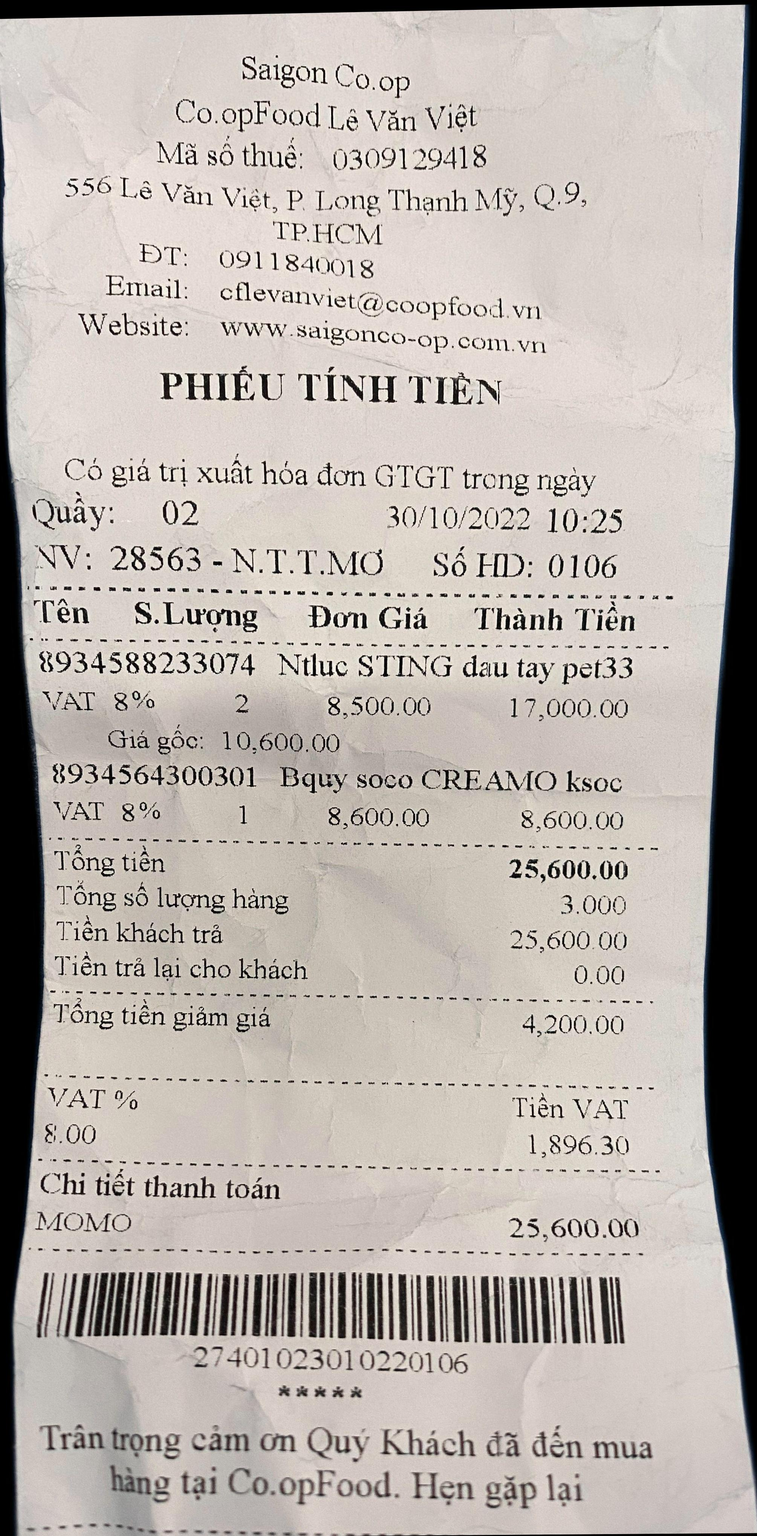Date: (373, 490, 542, 544)
Store_Name: (205, 42, 479, 104)
Total_Amount: (47, 839, 671, 890)
